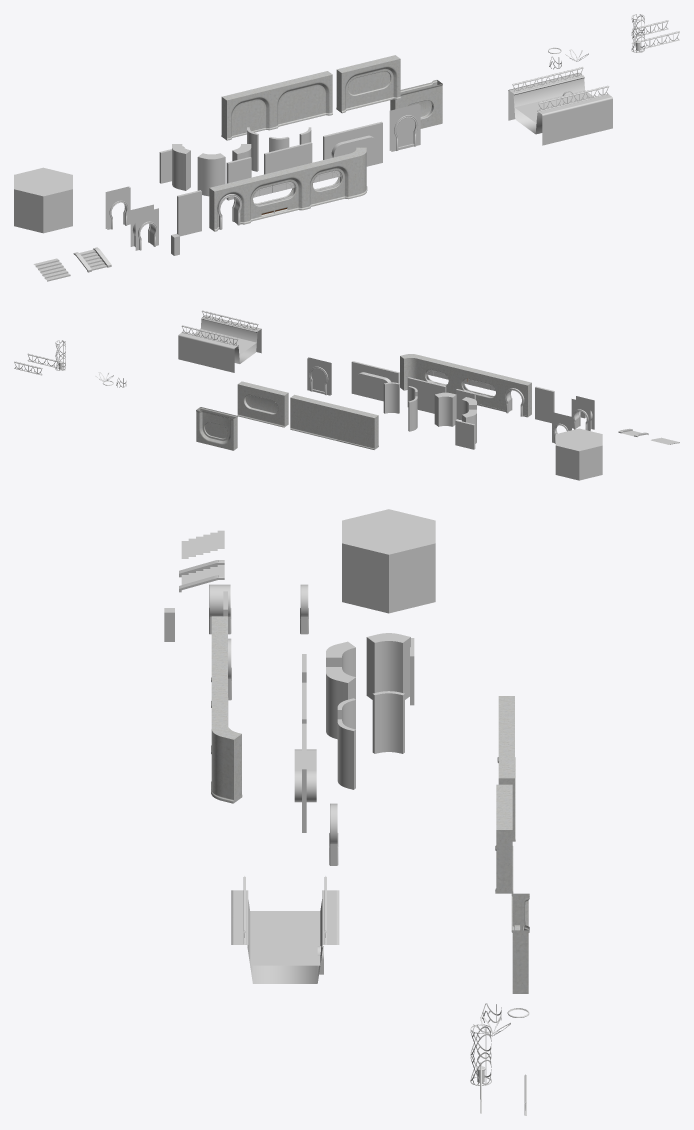
The model's file is Beata Modular.fbx.
3 renders of one model, top to bottom at view 1: azimuth 30°, elevation 25°; view 2: azimuth 150°, elevation 25°; view 3: azimuth 270°, elevation 25°, orthographic. The views are drawn at different scales.
Visible parts, largest first — view 1: Cylinder002, Box021, Box019, Box026, Box020, Box011, Object001, Box027, Box010, Box022, Box005, Box004 (+14 smaller); view 2: Cylinder002, Box021, Box019, Box026, Box020, Box022, Box027, Object001, Box011, Object002, Box005, Box010 (+12 smaller); view 3: Cylinder002, Object001, Plane001, Object002, Box027, Object005, Box021, Box022, Box019, Box026, Cylinder003, Box013.
Boxes of the visible parts, <box> form: Cylinder002: <box>14,167,72,233</box>; Box021: <box>336,55,400,113</box>; Box019: <box>269,71,332,128</box>; Box026: <box>508,81,577,145</box>; Box020: <box>221,85,274,140</box>; Box011: <box>242,165,305,223</box>; Object001: <box>172,144,251,196</box>; Box027: <box>544,73,612,136</box>; Box010: <box>301,154,352,209</box>; Box022: <box>390,80,442,128</box>; Box005: <box>323,121,382,166</box>; Box004: <box>264,142,312,174</box>; Cylinder002: <box>555,428,602,480</box>; Box021: <box>237,381,288,427</box>; Box019: <box>290,394,340,440</box>; Box026: <box>206,322,261,372</box>; Box020: <box>337,406,378,449</box>; Box022: <box>196,407,237,450</box>; Box027: <box>178,315,232,365</box>; Object001: <box>434,392,476,443</box>; Box011: <box>455,365,505,409</box>; Object002: <box>383,382,417,431</box>; Box005: <box>351,361,399,401</box>; Box010: <box>418,356,458,394</box>; Cylinder002: <box>342,509,435,613</box>; Object001: <box>326,633,410,739</box>; Plane001: <box>250,911,320,965</box>; Object002: <box>337,691,404,789</box>; Box027: <box>231,917,339,983</box>; Object005: <box>211,723,241,803</box>; Box021: <box>495,784,513,893</box>; Box022: <box>511,893,529,993</box>; Box019: <box>498,732,515,841</box>; Box026: <box>231,890,339,937</box>; Cylinder003: <box>294,749,316,802</box>; Box013: <box>179,560,224,592</box>.
Bounding box in the file's own units: 2974 × 312 × 812.
